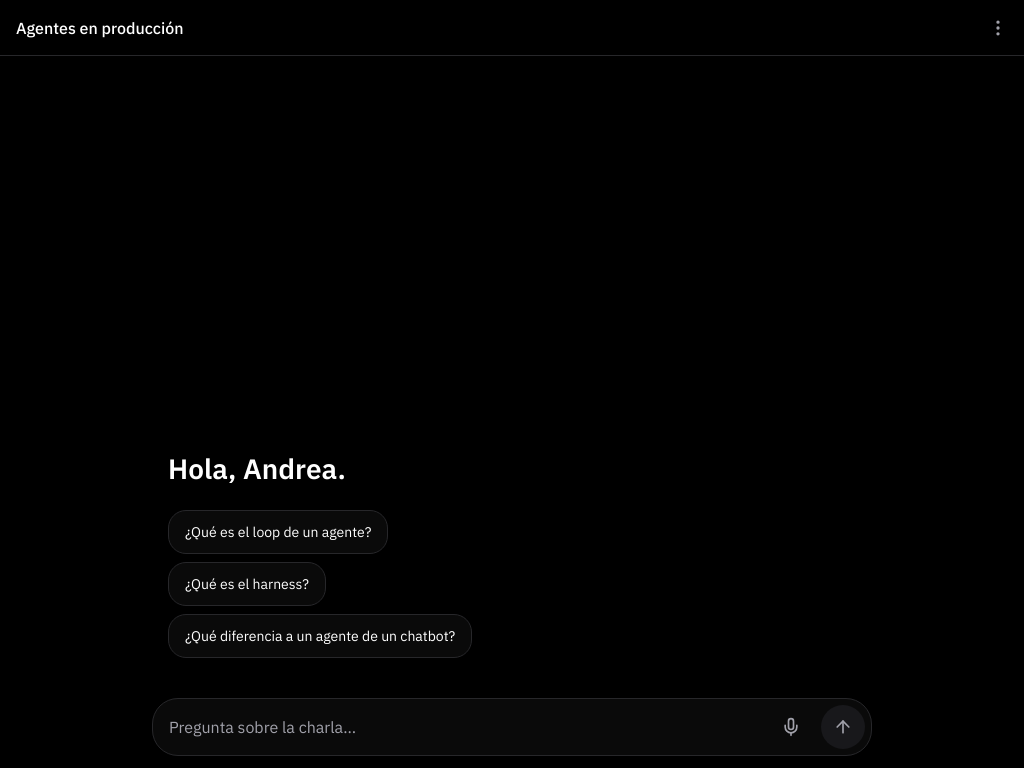
Test: Chat: estados de error › 429 tope → mensaje del servidor y composer deshabilitado
Type "Una más" into the text box with placeholder "Pregunta sobre la charla…" at (465, 727), box [169,707,761,747]
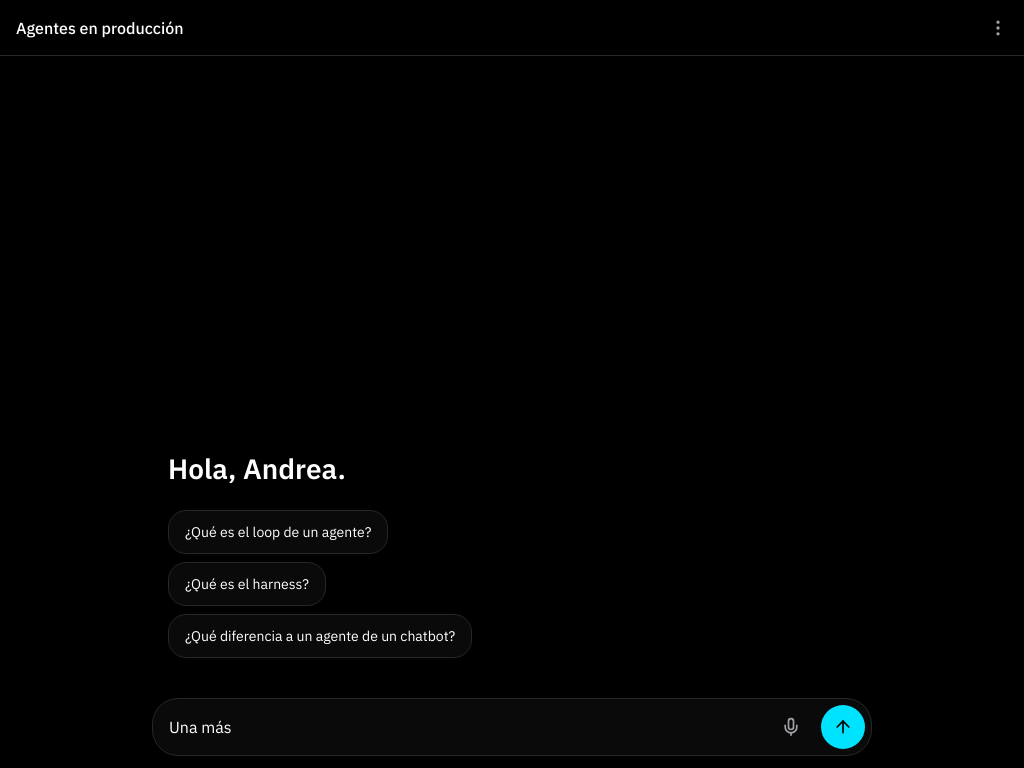
Click the button named "Enviar" at (843, 727), box [821,705,865,749]
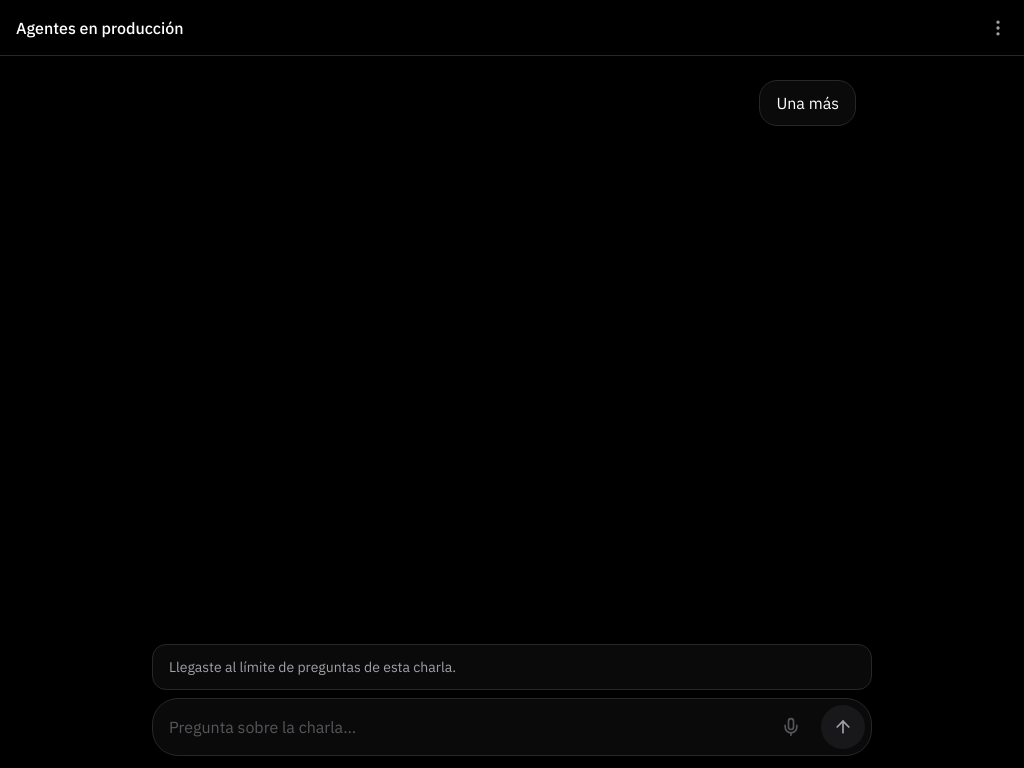
Expected: the text "Llegaste al límite de preguntas de esta charla." is shown, [152,644,872,690]
Expected: the text box with placeholder "Pregunta sobre la charla…" is disabled, [169,707,761,747]
Expected: the button named "Enviar" is disabled, [821,705,865,749]
